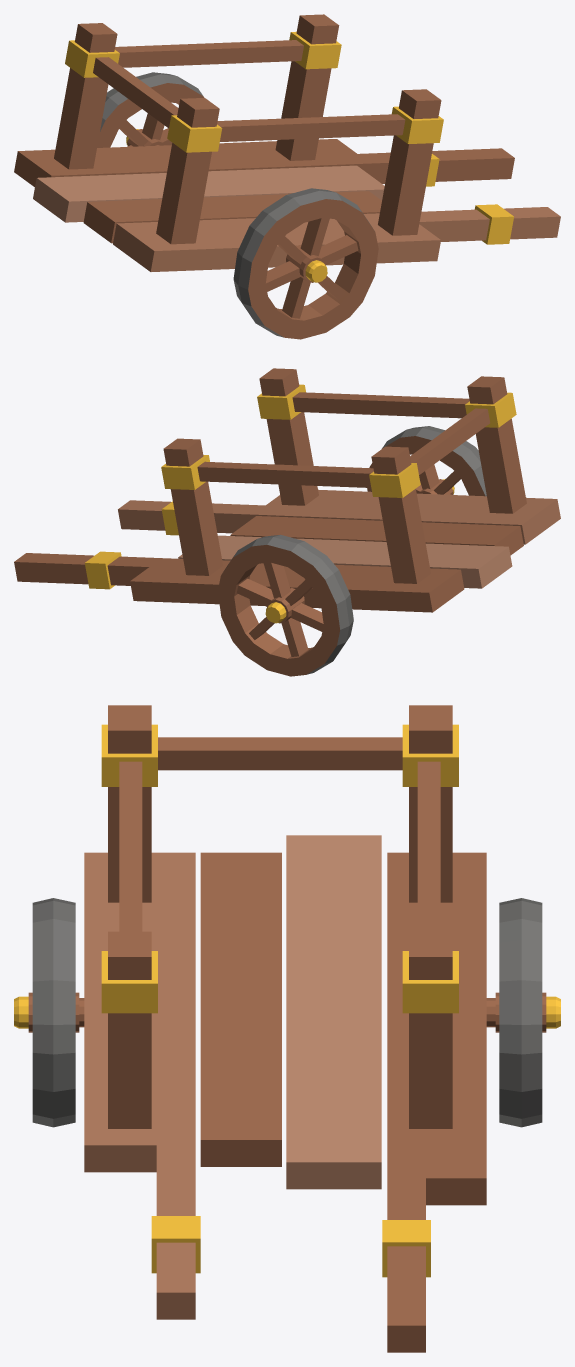
Rendered from cart.fbx.
3 views of the same model, one above another, from view 1: azimuth 30°, elevation 25°; view 2: azimuth 150°, elevation 25°; view 3: azimuth 270°, elevation 25° (orthographic). The views are drawn at different scales.
Visible parts, largest first — view 1: cart; view 2: cart; view 3: cart.
Part boxes in pixels (<box>): cart: <box>14,14,560,339</box>; cart: <box>14,368,560,676</box>; cart: <box>14,705,560,1352</box>.
Bounding box in the file's own units: 291 × 138 × 194.
